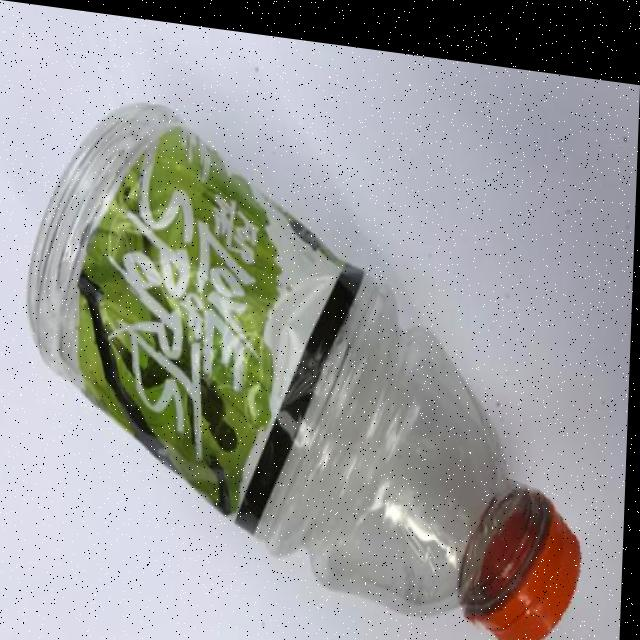litter: (470, 463, 589, 640)
